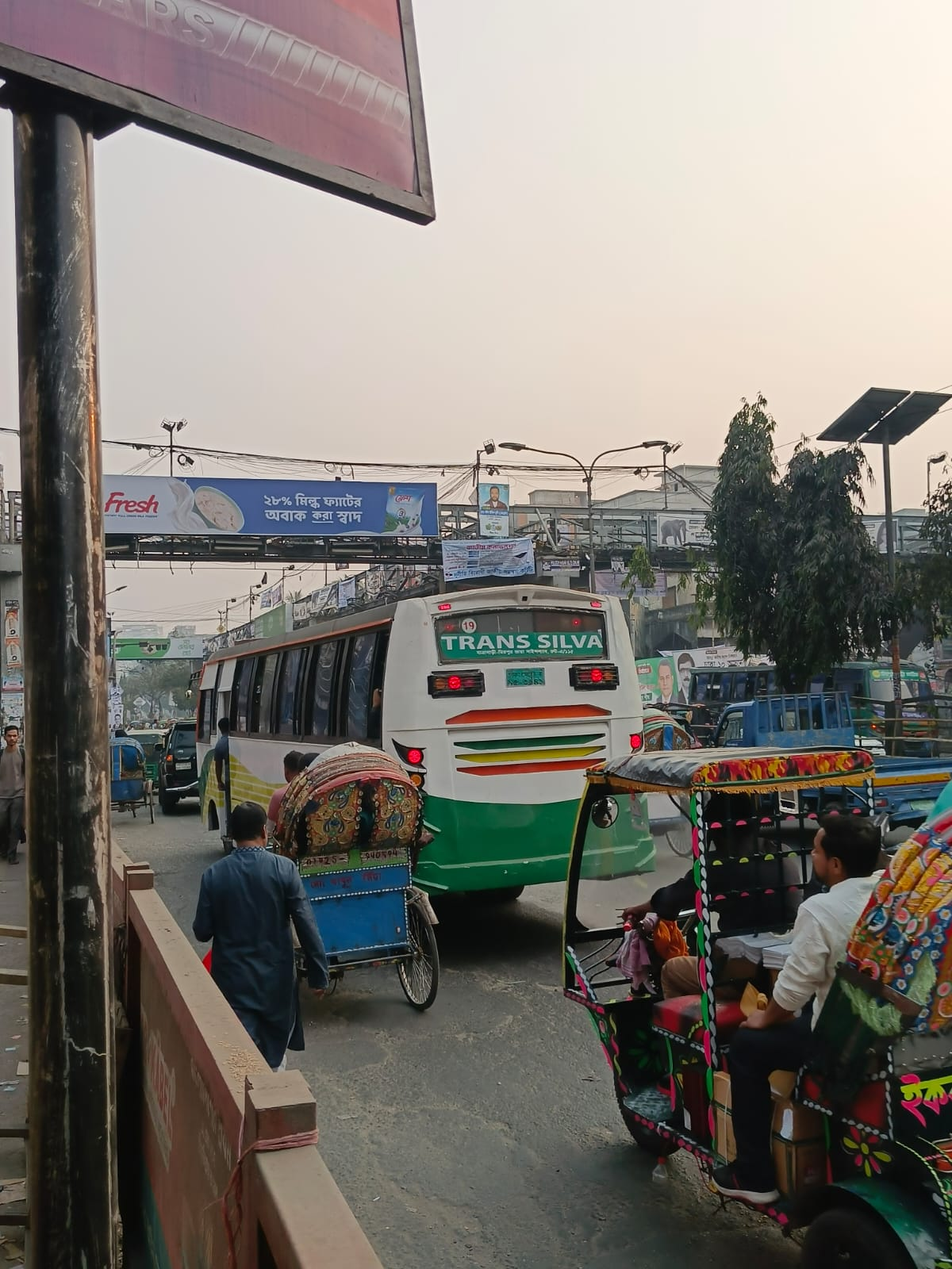Bus: (167, 584, 643, 875)
auto-ricksaw: (571, 723, 952, 1250), (246, 735, 465, 1031)
